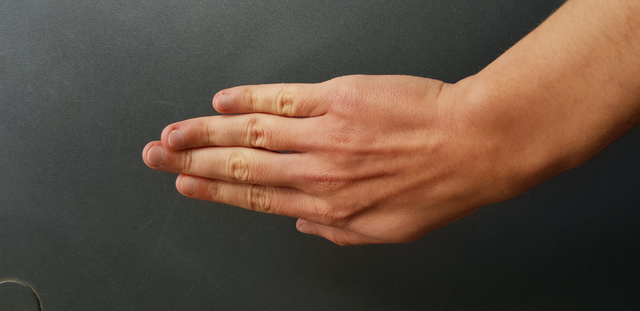Paper: (114, 65, 495, 262)
